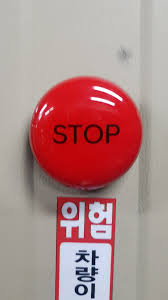bell: (28, 75, 146, 191)
